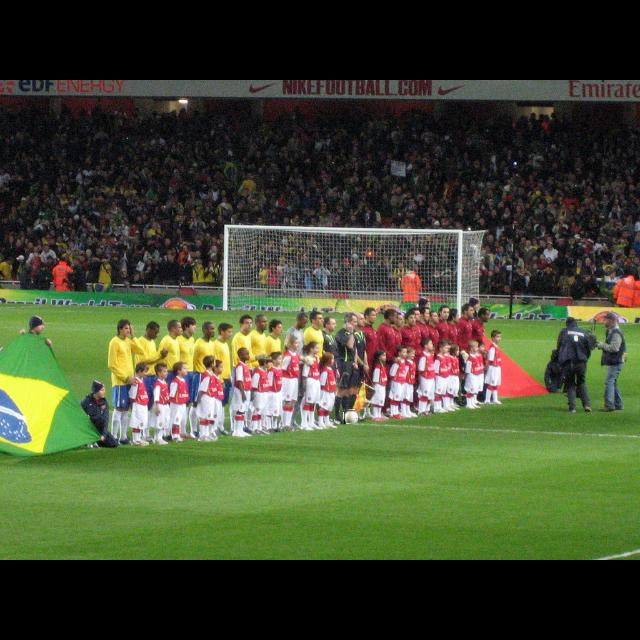Football: (344, 410, 356, 424)
